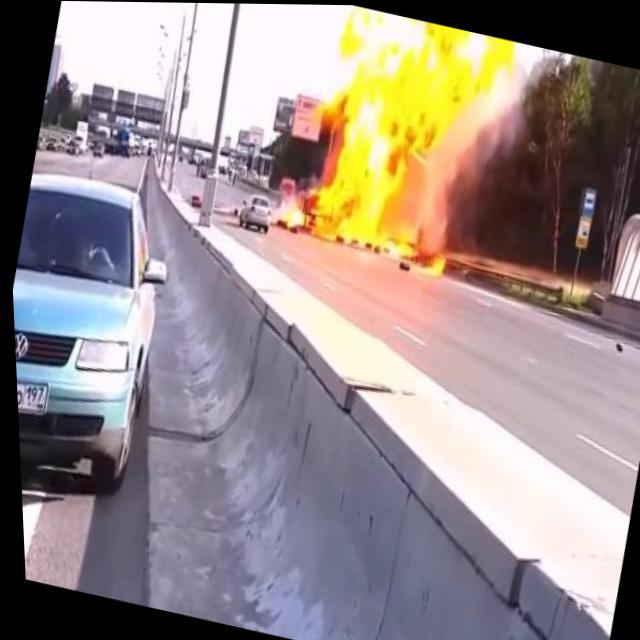fire: (266, 3, 530, 289)
